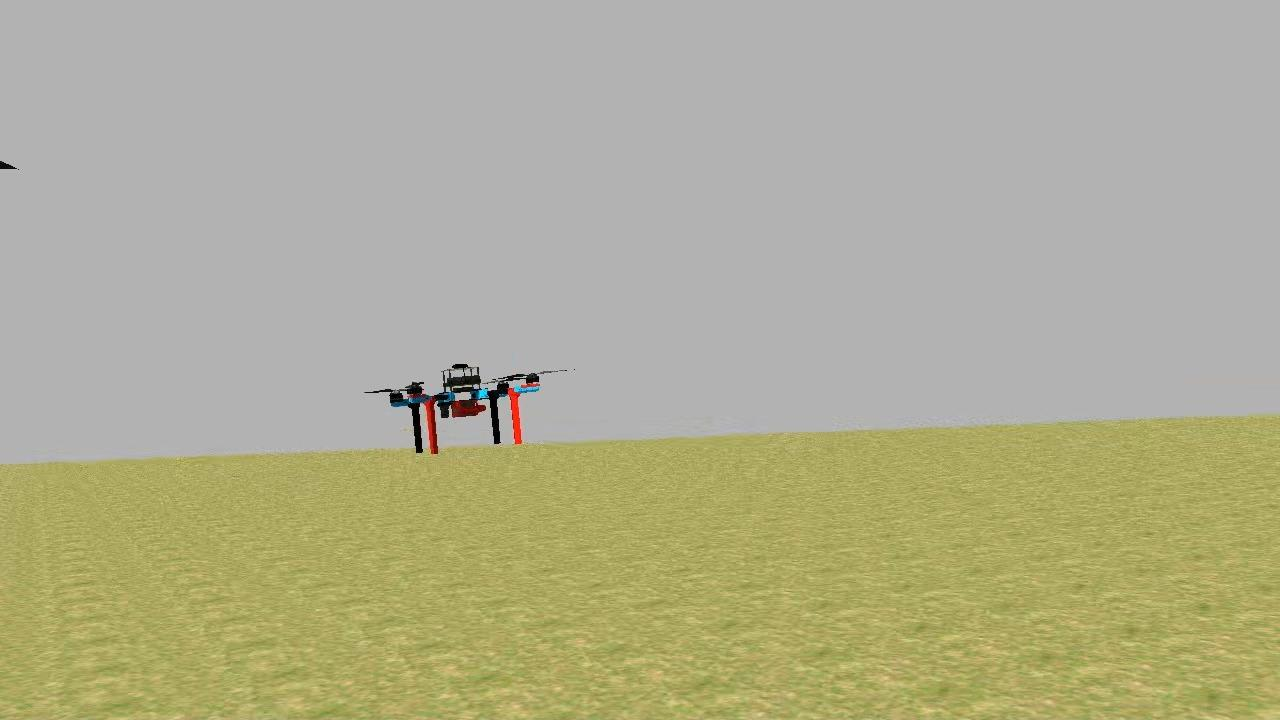UAV: (384, 358, 548, 458)
